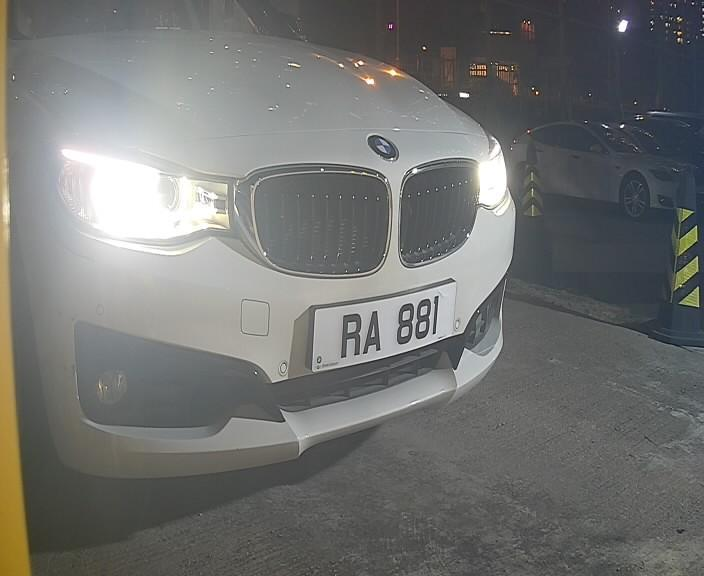License Plate: (299, 276, 469, 373)
